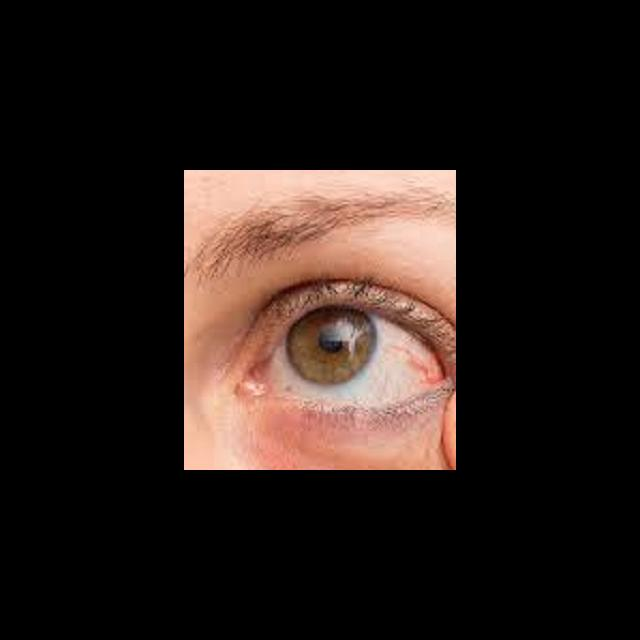eye: (271, 305, 445, 405)
iris: (285, 307, 377, 390)
